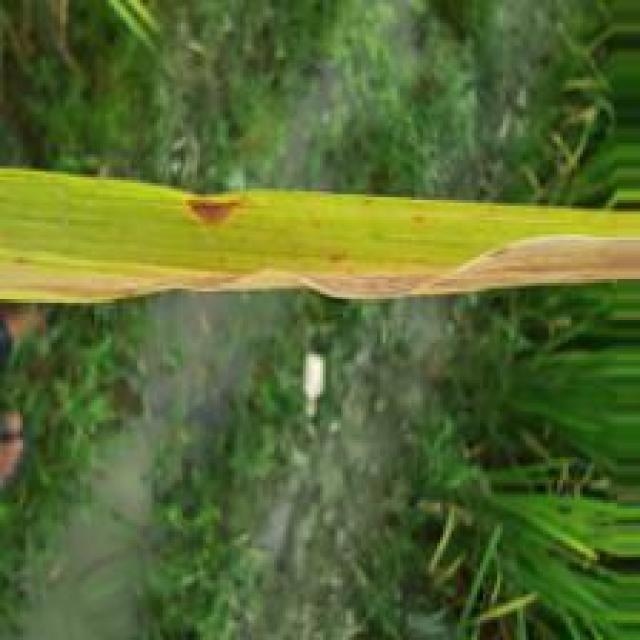Leaf_Blast: (303, 235, 640, 301), (181, 197, 250, 230)
